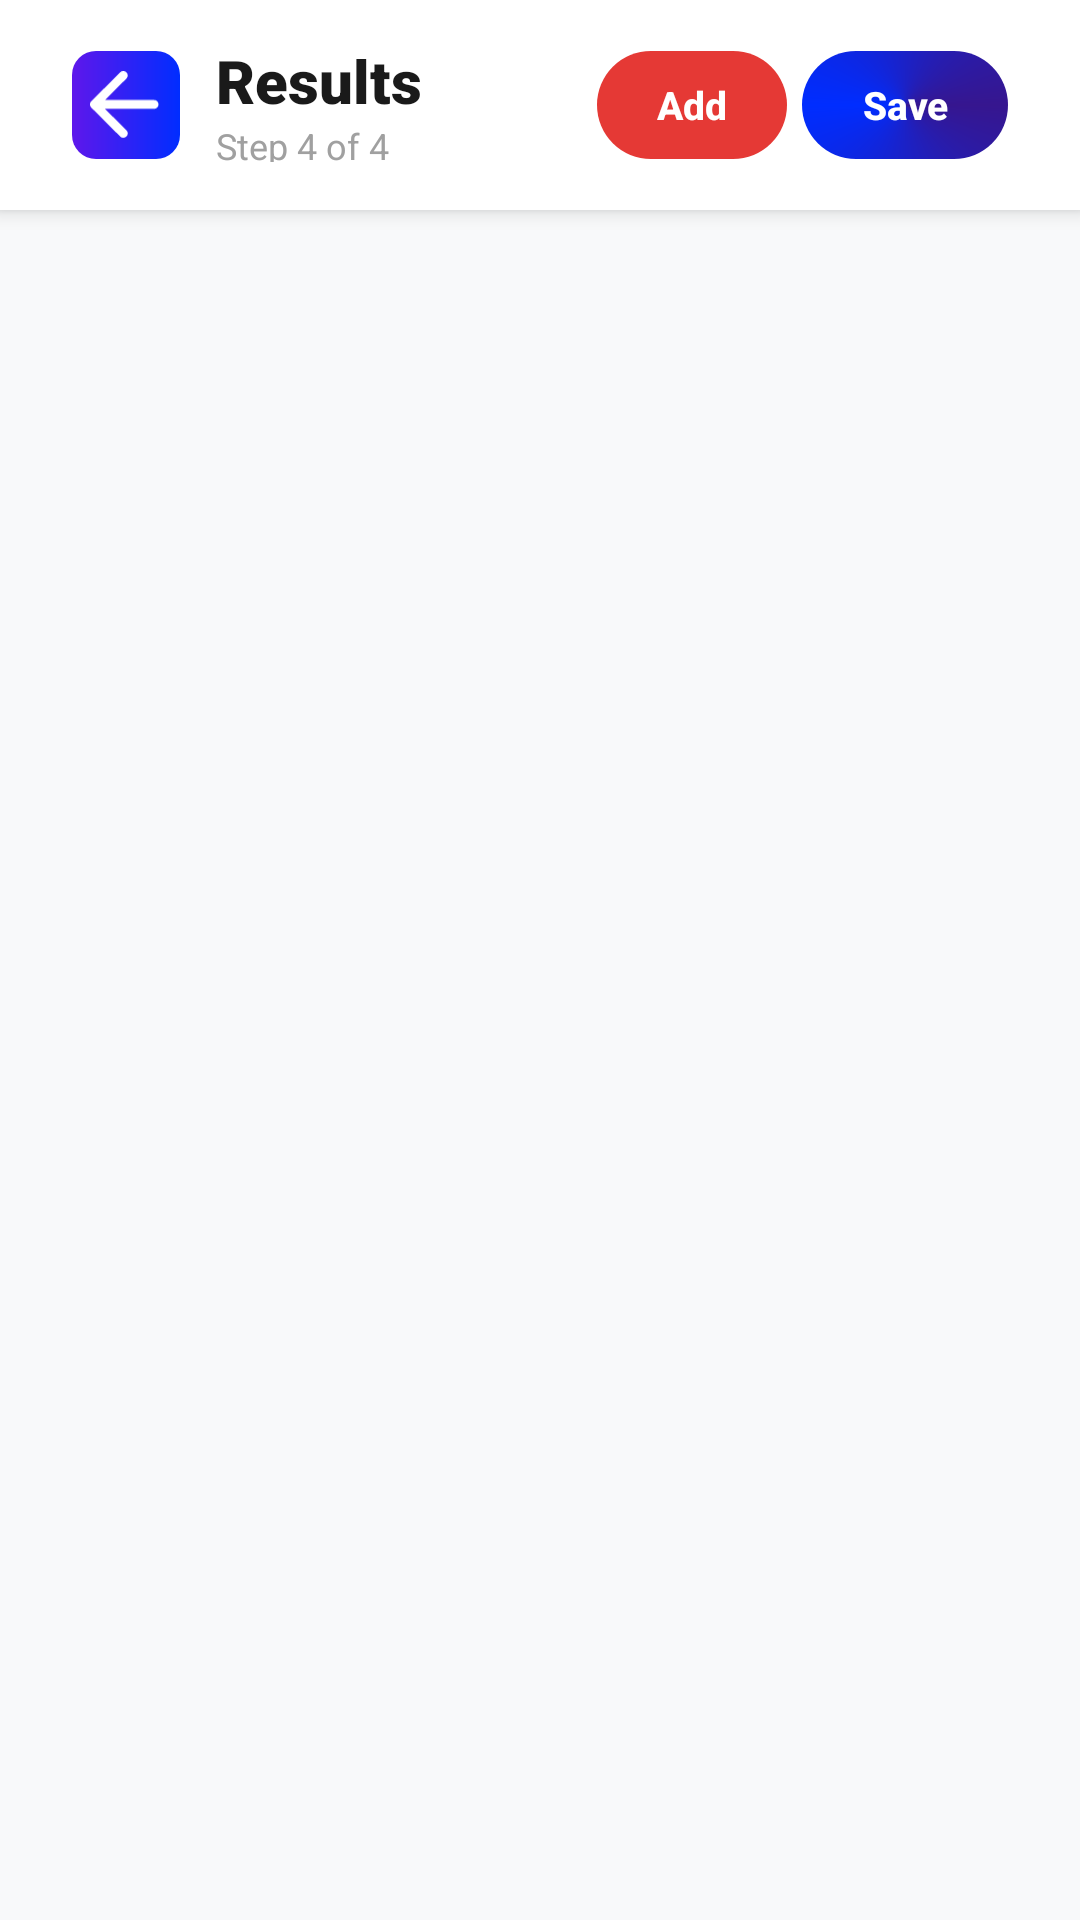

Screen size 1080px×1920px. Icon name, then its center in pixels as point (x, y):
back arrow: point (126, 105)
